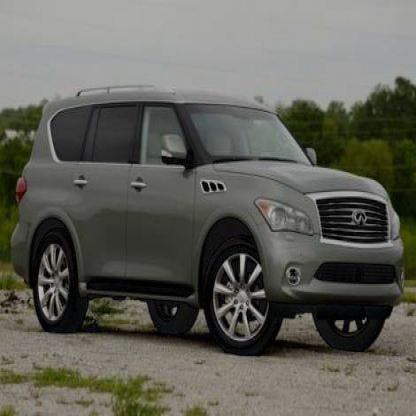Vehicle: (8, 83, 408, 361)
